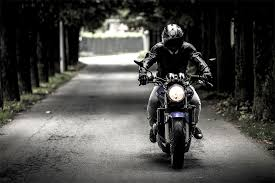helmet: (160, 22, 185, 56)
